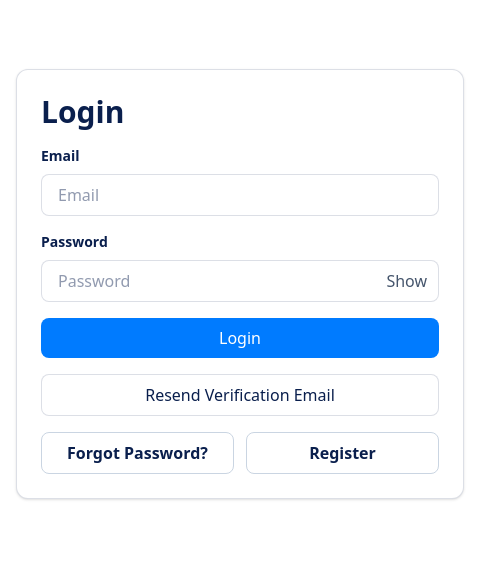
LoginPage › shows the fallback error when the API supplies no error text
Type "sean@example.com" into the field labelled "Email". click: (240,195)
box: 41,174 -> 439,216
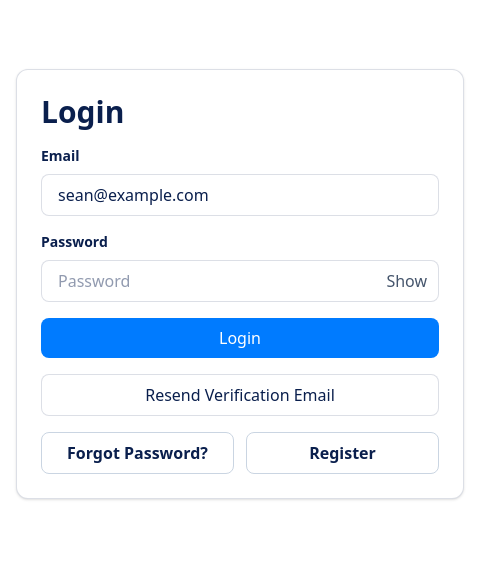
Type "Password123!" into the password field with placeholder "Password". click: (240,281)
box: 41,260 -> 439,302
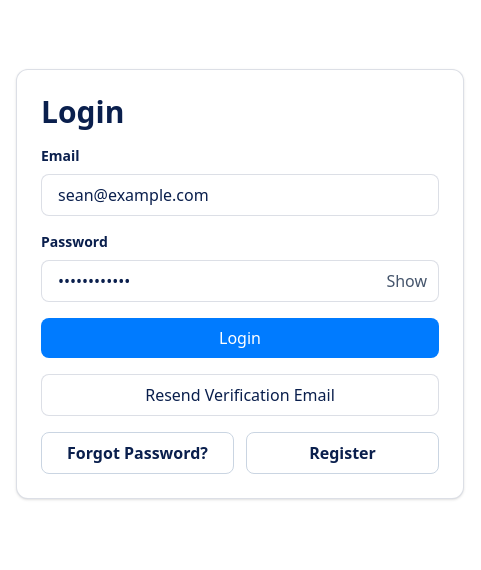
Click the button "Login". click: (240,338)
box: 41,318 -> 439,358
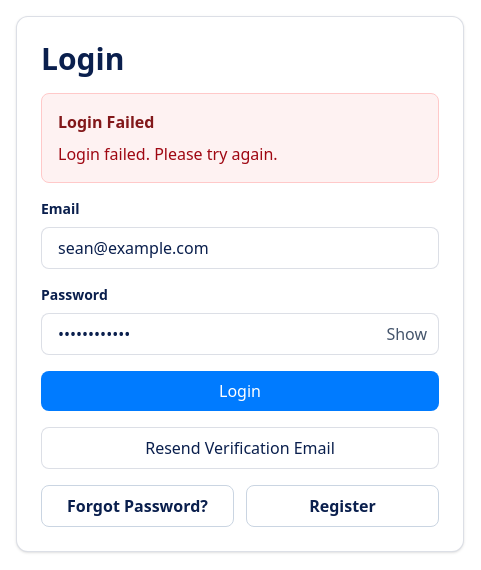
Result: the text "Login failed. Please try again." is shown at 58,143 -> 278,165
